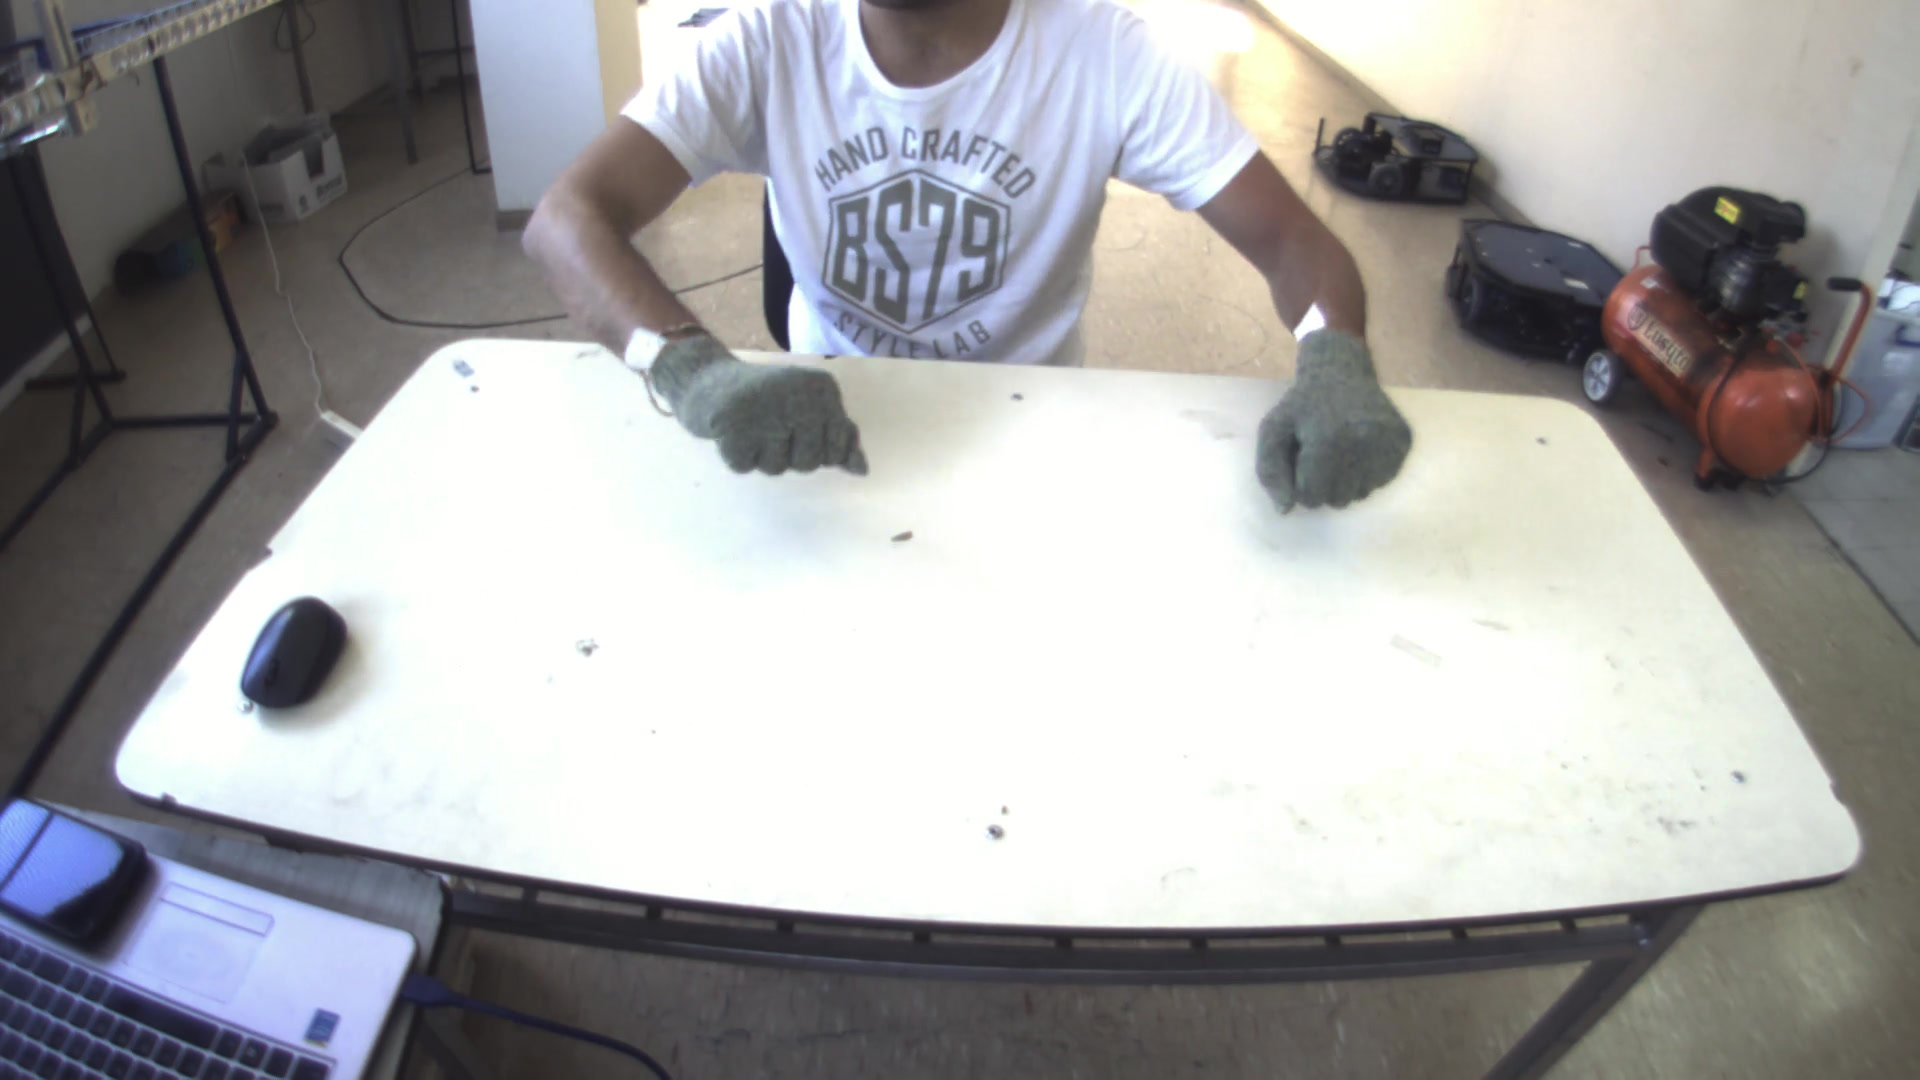hand: (628, 316, 874, 487), (1247, 324, 1427, 516)
